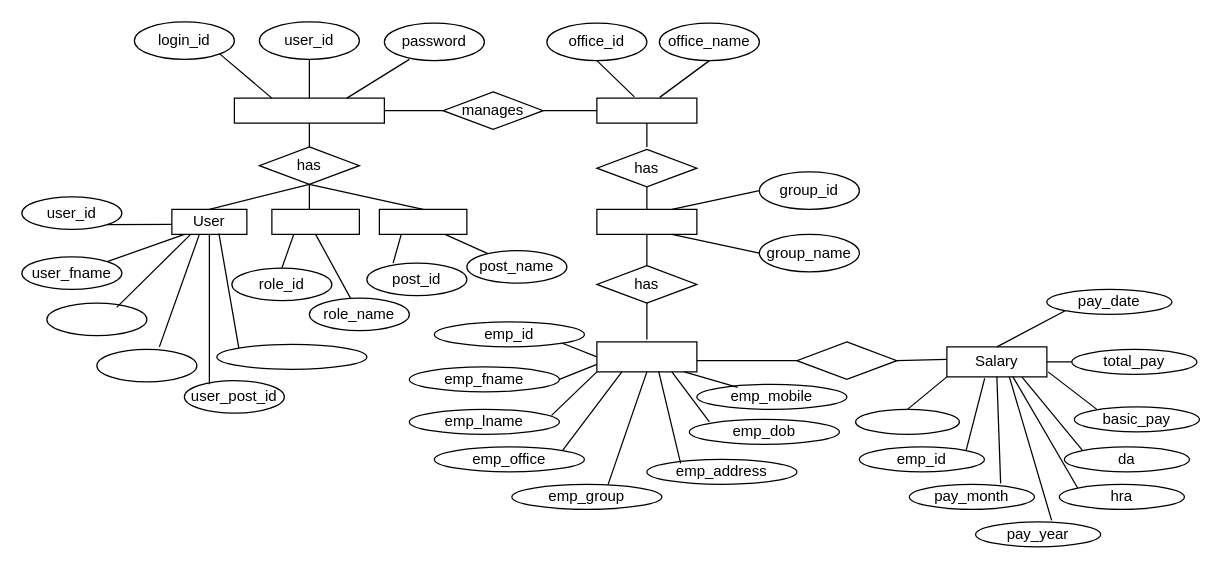
Image size: 1221x569. Some labels were removed from this diagram. Each missing label, with the centre of its shape:
Employees: point 646,356
gets: point 846,360
Group: point 646,221
Login: point 308,110
Office: point 646,110
Post: point 422,221
Role: point 315,221
sal_id: point 906,421
user_lname: point 96,319
user_mobile: point 291,356
user_role_id: point 146,365
